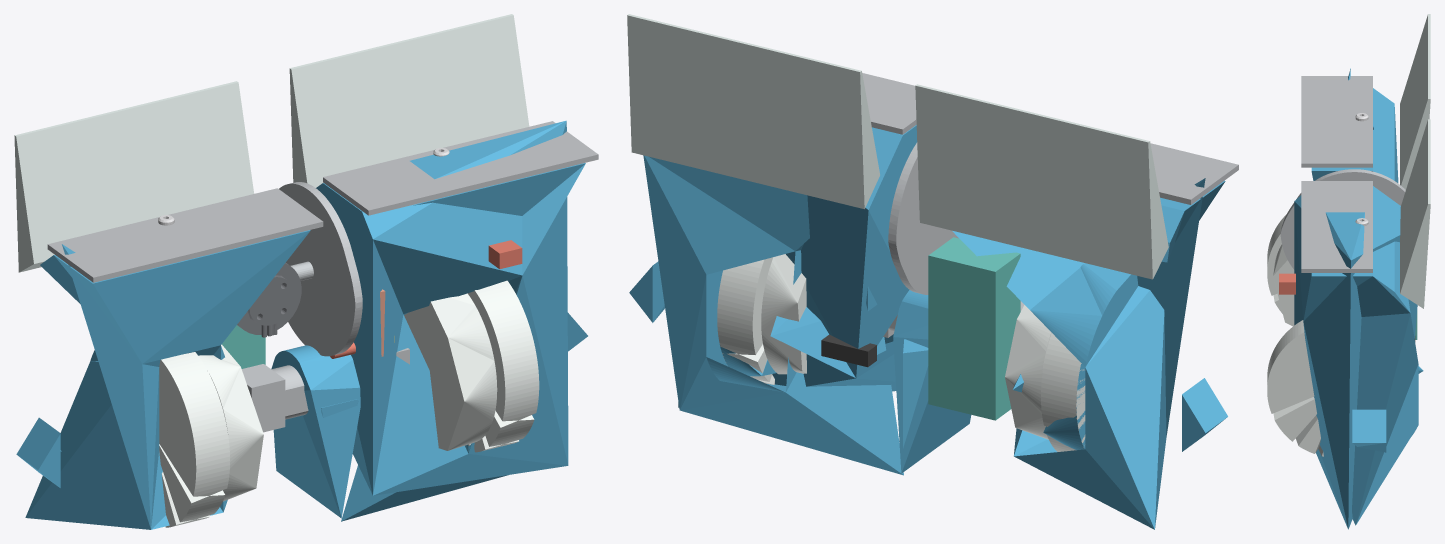
File: mutant.glb
3 views of the same model, side by side, from view 1: azimuth 30°, elevation 25°; view 2: azimuth 150°, elevation 25°; view 3: azimuth 270°, elevation 25° (orthographic). The views are drawn at different scales.
Visible parts, largest first — view 1: pod_l, pod_r, skirt_r, skirt_l, front_plate_r, leg_cam_r1, bridge, leg_cam_l0, front_plate_l, weapon, leg_cam_l1, leg_cam_r0 (+5 smaller); view 2: pod_l, pod_r, skirt_r, skirt_l, el_battery, bridge, leg_cam_l1, weapon, leg_cam_r0, leg_cam_l0, leg_cam_r1, front_plate_r (+4 smaller); view 3: pod_l, front_plate_r, front_plate_l, leg_cam_l1, skirt_l, skirt_r, pod_r, weapon, fin_l, leg_cam_r0, leg_cam_r1, switch.
Boxes of the visible parts, left/top/right/bottom form: pod_l: left=316, top=120, right=585, bottom=521; pod_r: left=25, top=230, right=310, bottom=529; skirt_r: left=14, top=81, right=254, bottom=272; skirt_l: left=289, top=14, right=529, bottom=187; front_plate_r: left=47, top=188, right=323, bottom=282; leg_cam_r1: left=159, top=352, right=229, bottom=527; bridge: left=271, top=345, right=360, bottom=518; leg_cam_l0: left=404, top=293, right=497, bottom=450; front_plate_l: left=323, top=121, right=598, bottom=215; weapon: left=279, top=182, right=362, bottom=356; leg_cam_l1: left=468, top=280, right=539, bottom=452; leg_cam_r0: left=198, top=344, right=263, bottom=501; pod_l: left=643, top=125, right=917, bottom=475; pod_r: left=952, top=178, right=1225, bottom=529; skirt_r: left=915, top=84, right=1168, bottom=279; skirt_l: left=627, top=14, right=879, bottom=209; el_battery: left=928, top=237, right=1020, bottom=420; bridge: left=893, top=290, right=971, bottom=473; leg_cam_l1: left=717, top=257, right=774, bottom=384; weapon: left=888, top=142, right=958, bottom=294; leg_cam_r0: left=1005, top=305, right=1051, bottom=439; leg_cam_l0: left=761, top=254, right=806, bottom=374; leg_cam_r1: left=1041, top=333, right=1085, bottom=451; front_plate_r: left=1150, top=143, right=1238, bottom=204; pod_l: left=1294, top=186, right=1423, bottom=529; front_plate_r: left=1301, top=76, right=1372, bottom=167; front_plate_l: left=1301, top=181, right=1372, bottom=272; leg_cam_l1: left=1267, top=320, right=1323, bottom=456; skirt_l: left=1400, top=119, right=1430, bottom=308; skirt_r: left=1400, top=14, right=1430, bottom=189; pod_r: left=1311, top=68, right=1417, bottom=306; weapon: left=1280, top=169, right=1405, bottom=269; fin_l: left=1352, top=409, right=1386, bottom=452; leg_cam_r0: left=1273, top=244, right=1294, bottom=326; leg_cam_r1: left=1267, top=214, right=1286, bottom=313; switch: left=1279, top=273, right=1295, bottom=294.
Size of the model in its own units: 146 by 107 by 48.
